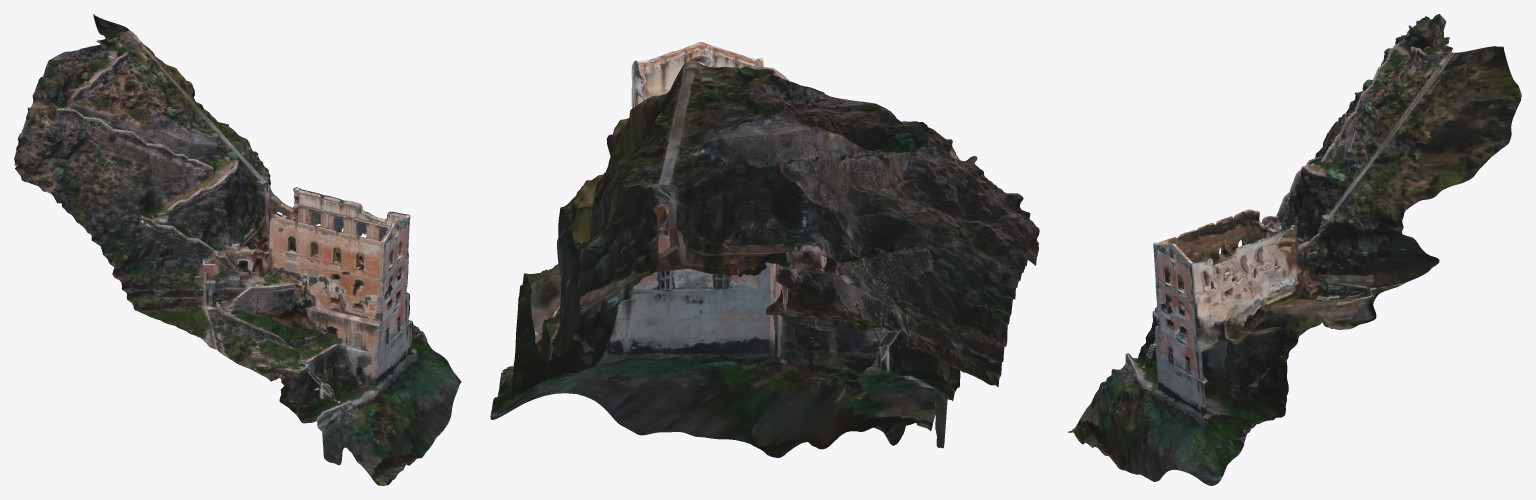
The model's file is sf-abandoned-ruin-by-sea-c08d4c.glb.
3 views of the same model, side by side, from view 1: azimuth 30°, elevation 25°; view 2: azimuth 150°, elevation 25°; view 3: azimuth 270°, elevation 25° (orthographic). The views are drawn at different scales.
Parts seen in each view (by area): view 1: Model_material1_0, Model_material0_0; view 2: Model_material1_0, Model_material0_0; view 3: Model_material0_0, Model_material1_0.
Part boxes in pixels (x1=…): Model_material1_0: x1=14, y1=29, x2=454, y2=485; Model_material0_0: x1=75, y1=14, x2=461, y2=401; Model_material1_0: x1=515, y1=46, x2=1039, y2=457; Model_material0_0: x1=490, y1=42, x2=1020, y2=419; Model_material0_0: x1=1155, y1=46, x2=1521, y2=485; Model_material1_0: x1=1068, y1=14, x2=1456, y2=481.
Size of the model in its own units: 9.7 by 8.94 by 10.32.
Materials: 2 (2 with a texture image).
